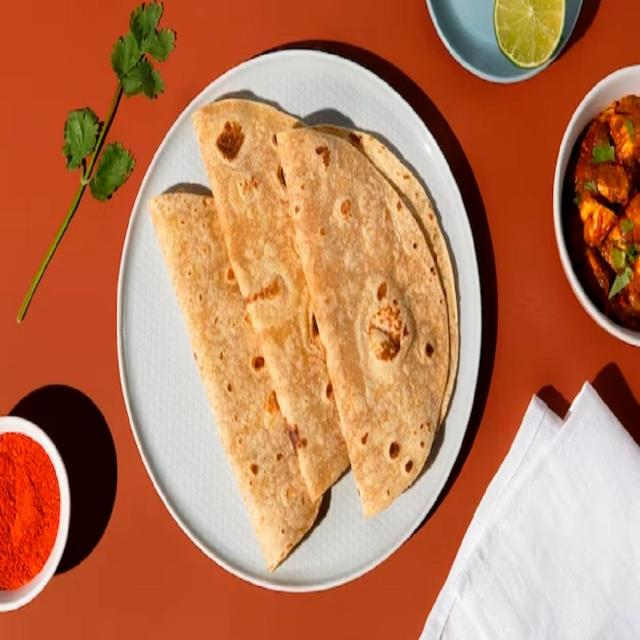ROTI: (150, 124, 459, 564)
